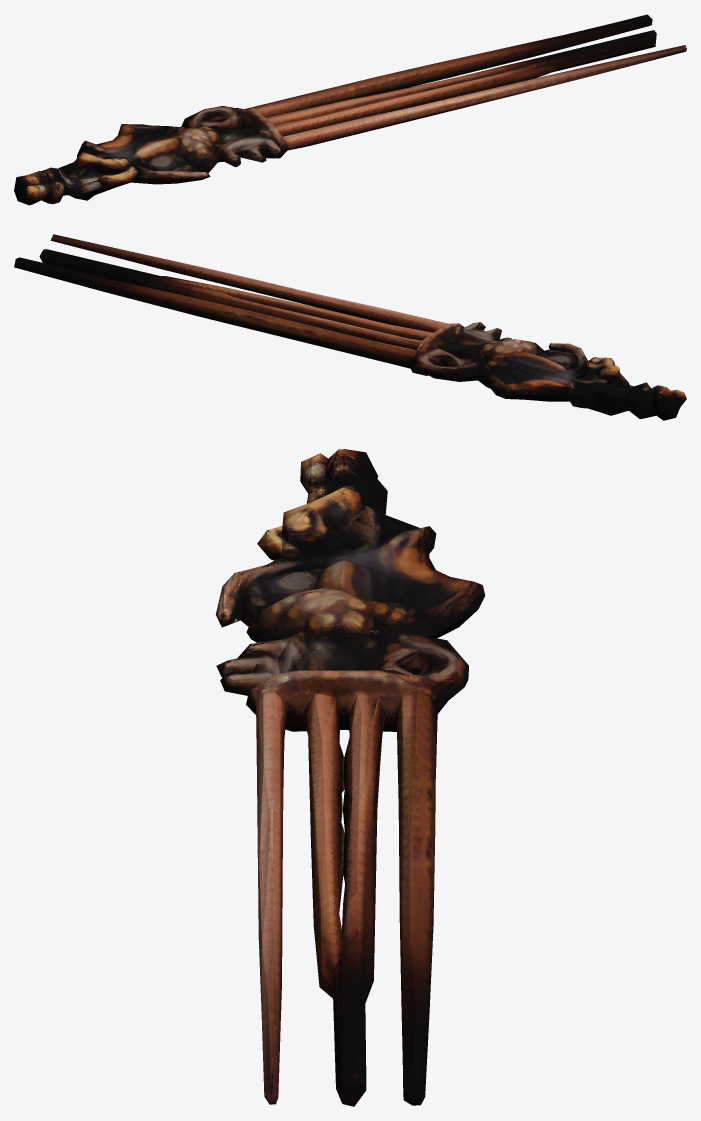
File: wooden-chopsticks-horror.jpeg.glb
3 views of the same model, one above another, from view 1: azimuth 30°, elevation 25°; view 2: azimuth 150°, elevation 25°; view 3: azimuth 270°, elevation 25° (orthographic). The views are drawn at different scales.
Visible parts, largest first — view 1: world; view 2: world; view 3: world.
Part boxes in pixels (<box>): world: <box>14,14,686,205</box>; world: <box>14,234,686,420</box>; world: <box>215,449,485,1106</box>.
Size of the model in its own units: 1 by 0.0699 by 0.1813.
Materials: 1 (1 with a texture image).
